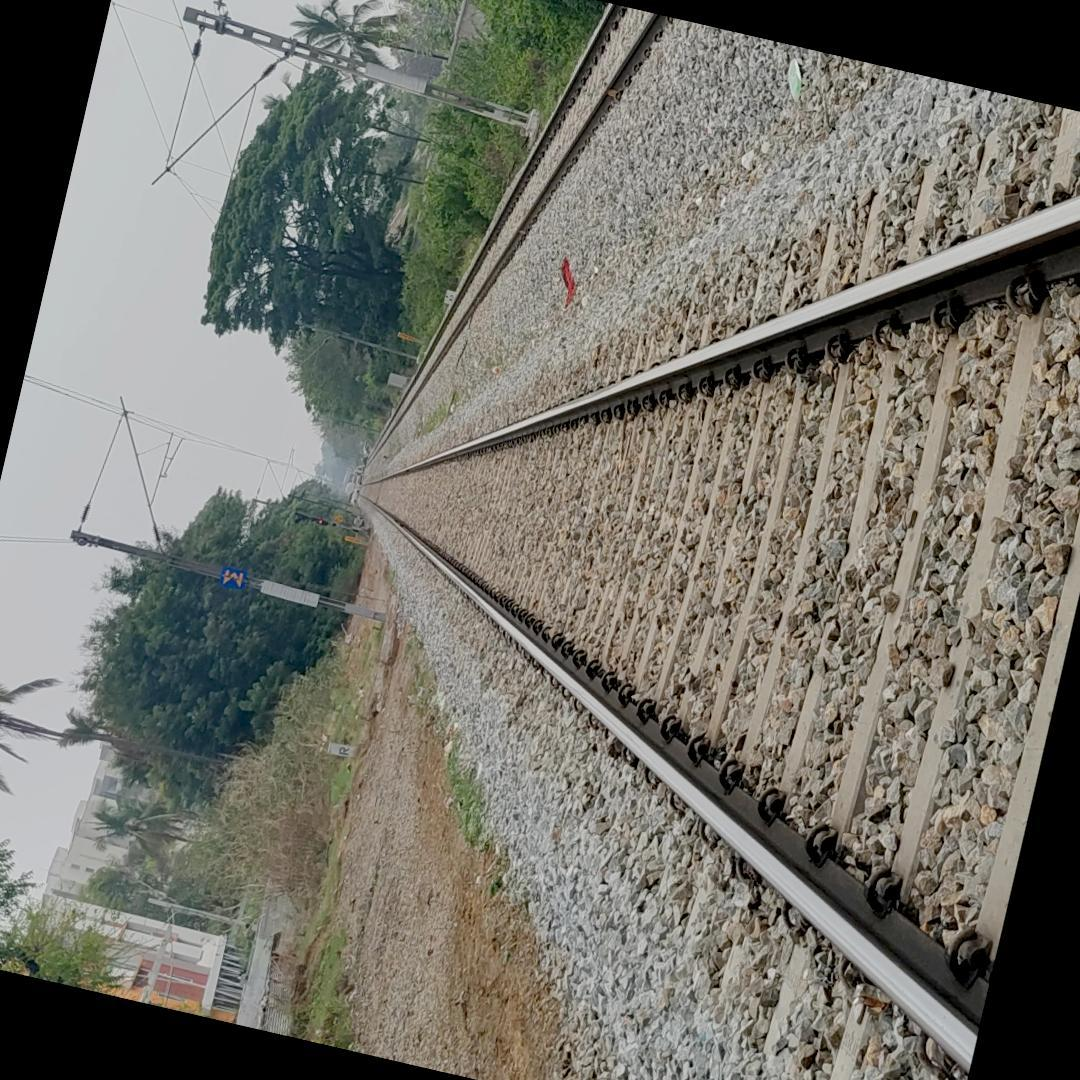track: (349, 91, 1080, 1080)
